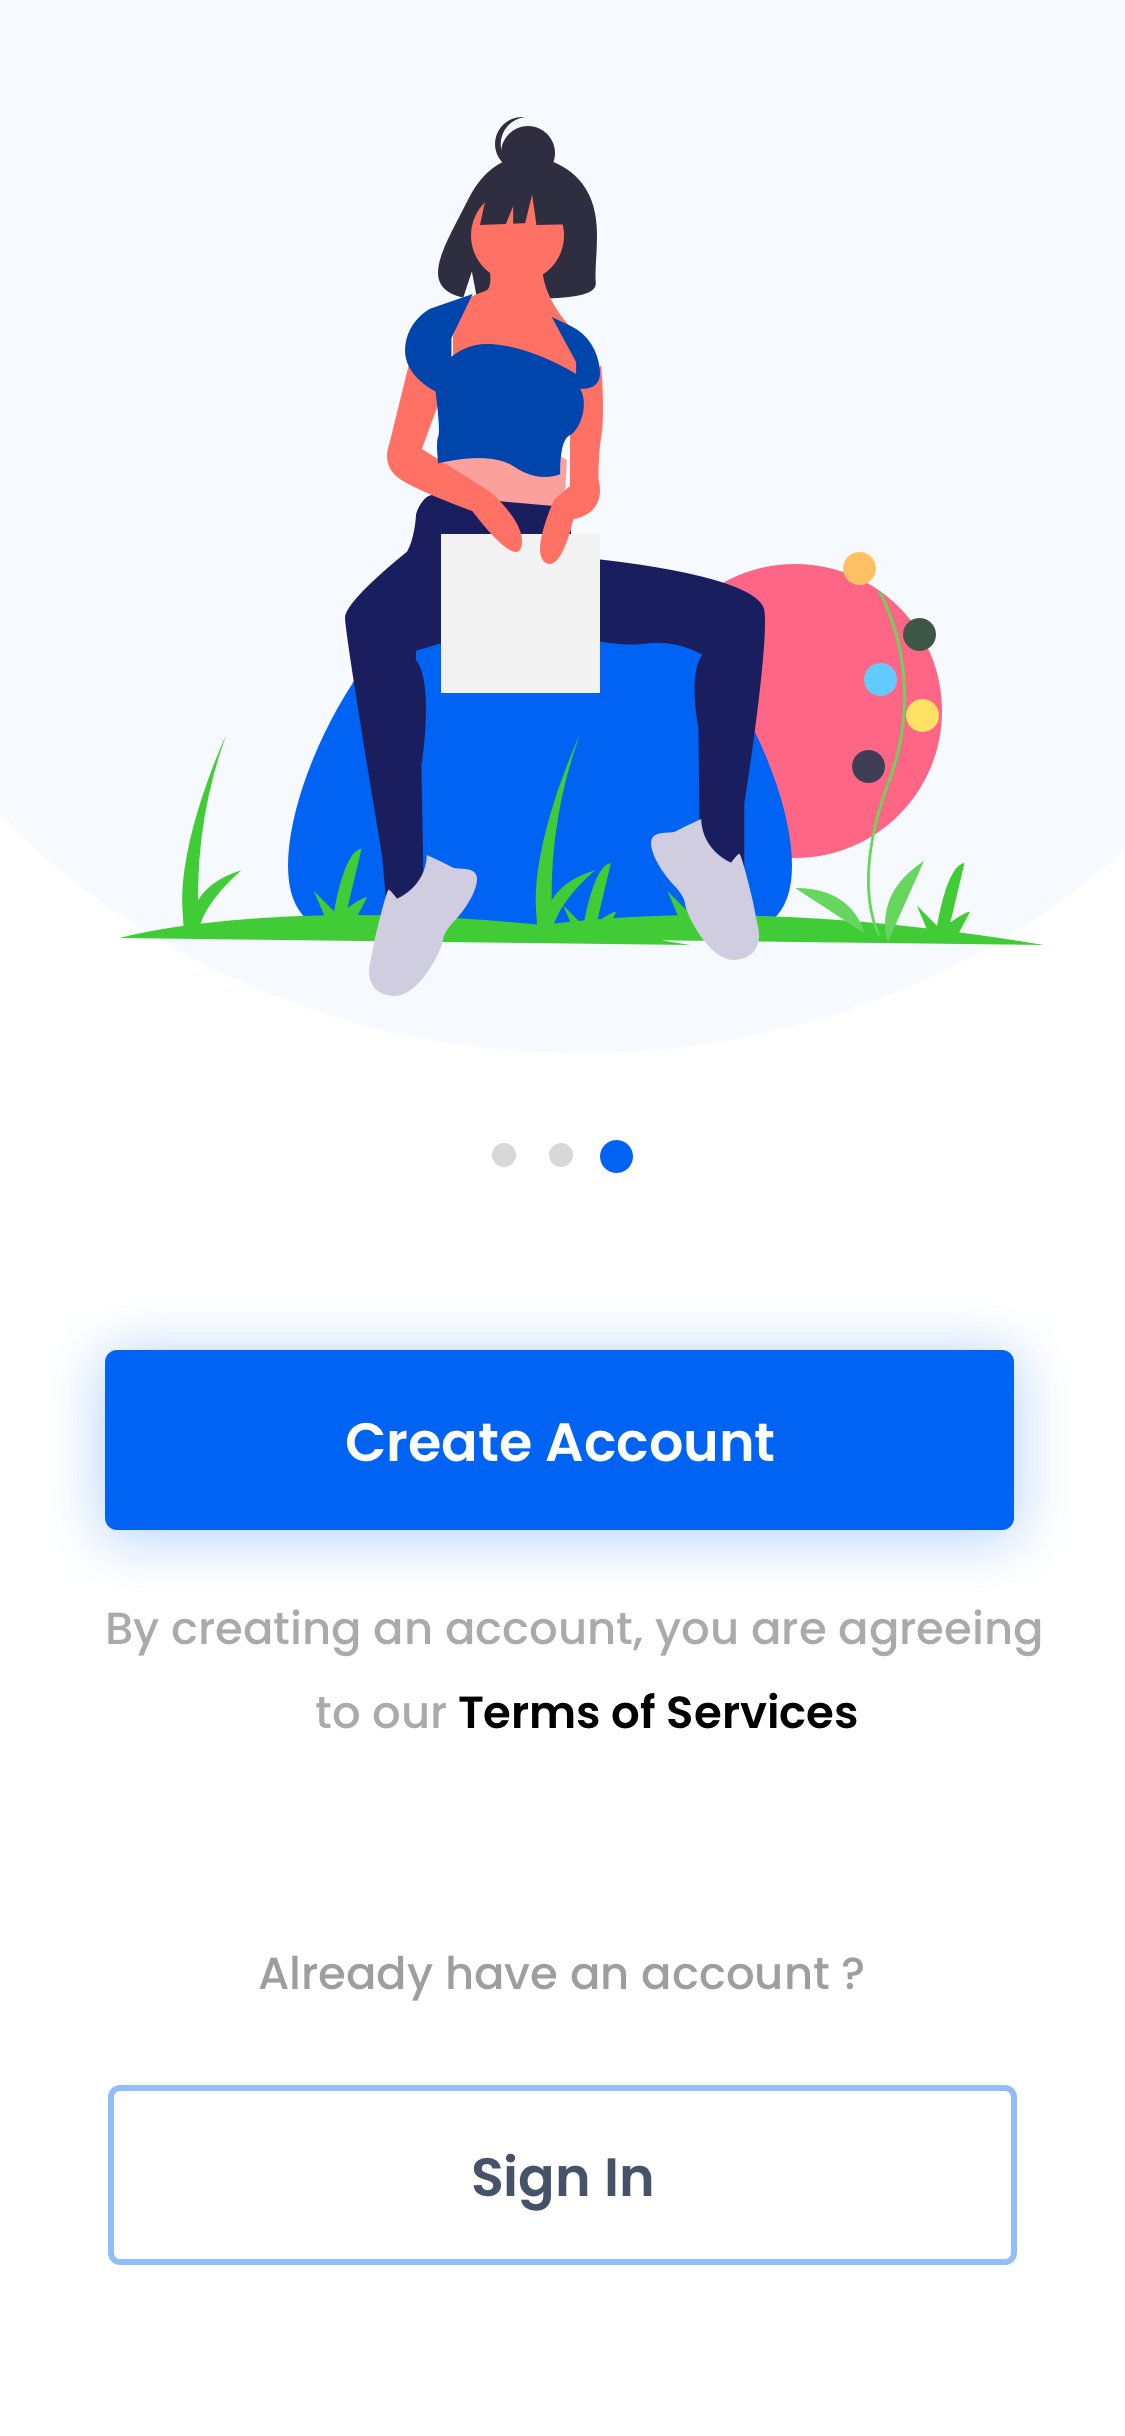Image: (120, 113, 1046, 1000)
PageIndicator: (491, 1139, 636, 1176)
Text: (107, 1606, 1043, 1731), (259, 1954, 866, 2003)
TextButton: (109, 2083, 1018, 2267), (106, 1348, 1015, 1530)
